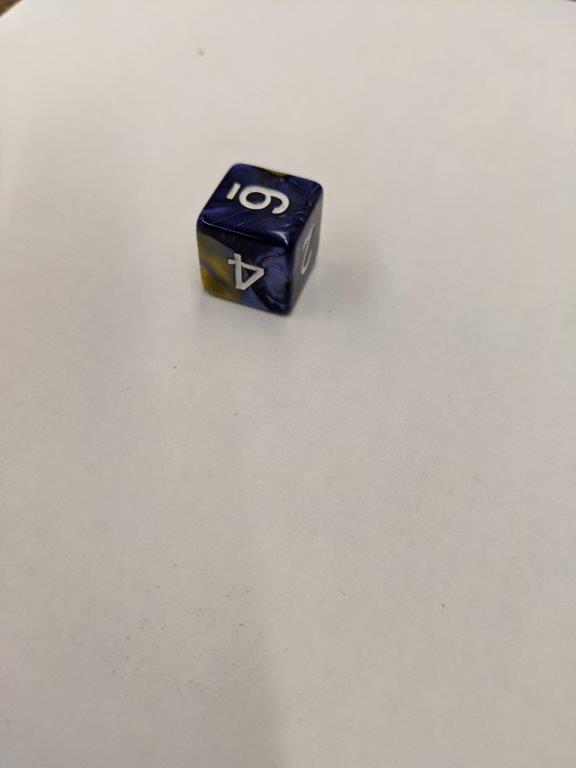d6-6: (197, 163, 325, 316)
